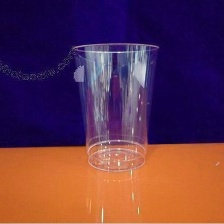glass: (65, 35, 172, 177)
